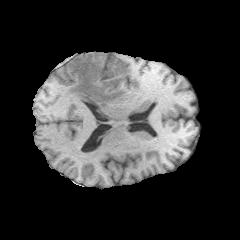glioma: (67, 54, 129, 107)
